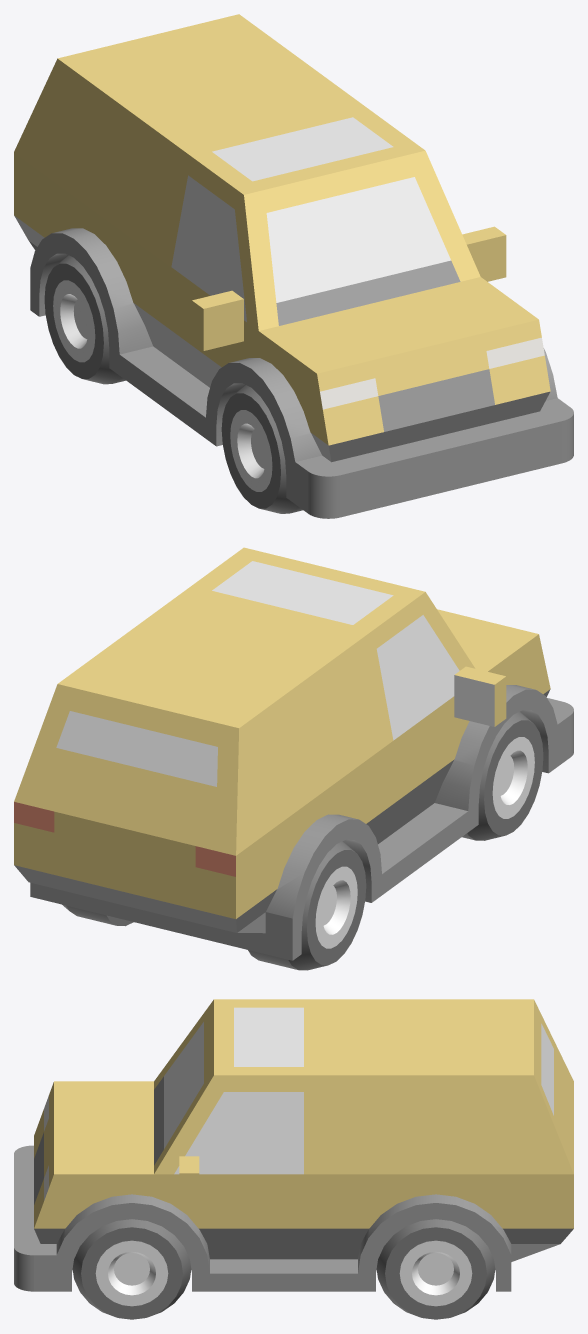
File: suv.gltf
3 views of the same model, one above another, from view 1: azimuth 30°, elevation 25°; view 2: azimuth 150°, elevation 25°; view 3: azimuth 270°, elevation 25° (orthographic). The views are drawn at different scales.
Visible parts, largest first — view 1: suvLuxury; view 2: suvLuxury; view 3: suvLuxury.
Boxes of the visible parts, bbox=[...] form: suvLuxury: bbox=[14, 14, 573, 518]; suvLuxury: bbox=[14, 547, 573, 970]; suvLuxury: bbox=[14, 999, 573, 1319].
Bounding box in the file's own units: 1.12 × 0.975 × 2.1.
